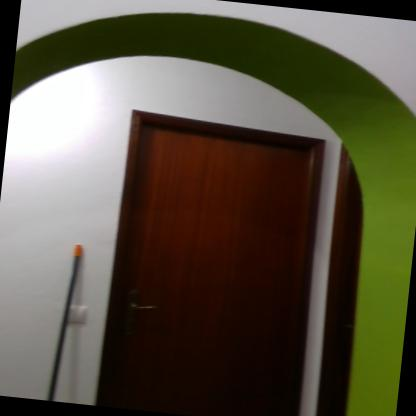closed: (80, 79, 357, 415)
